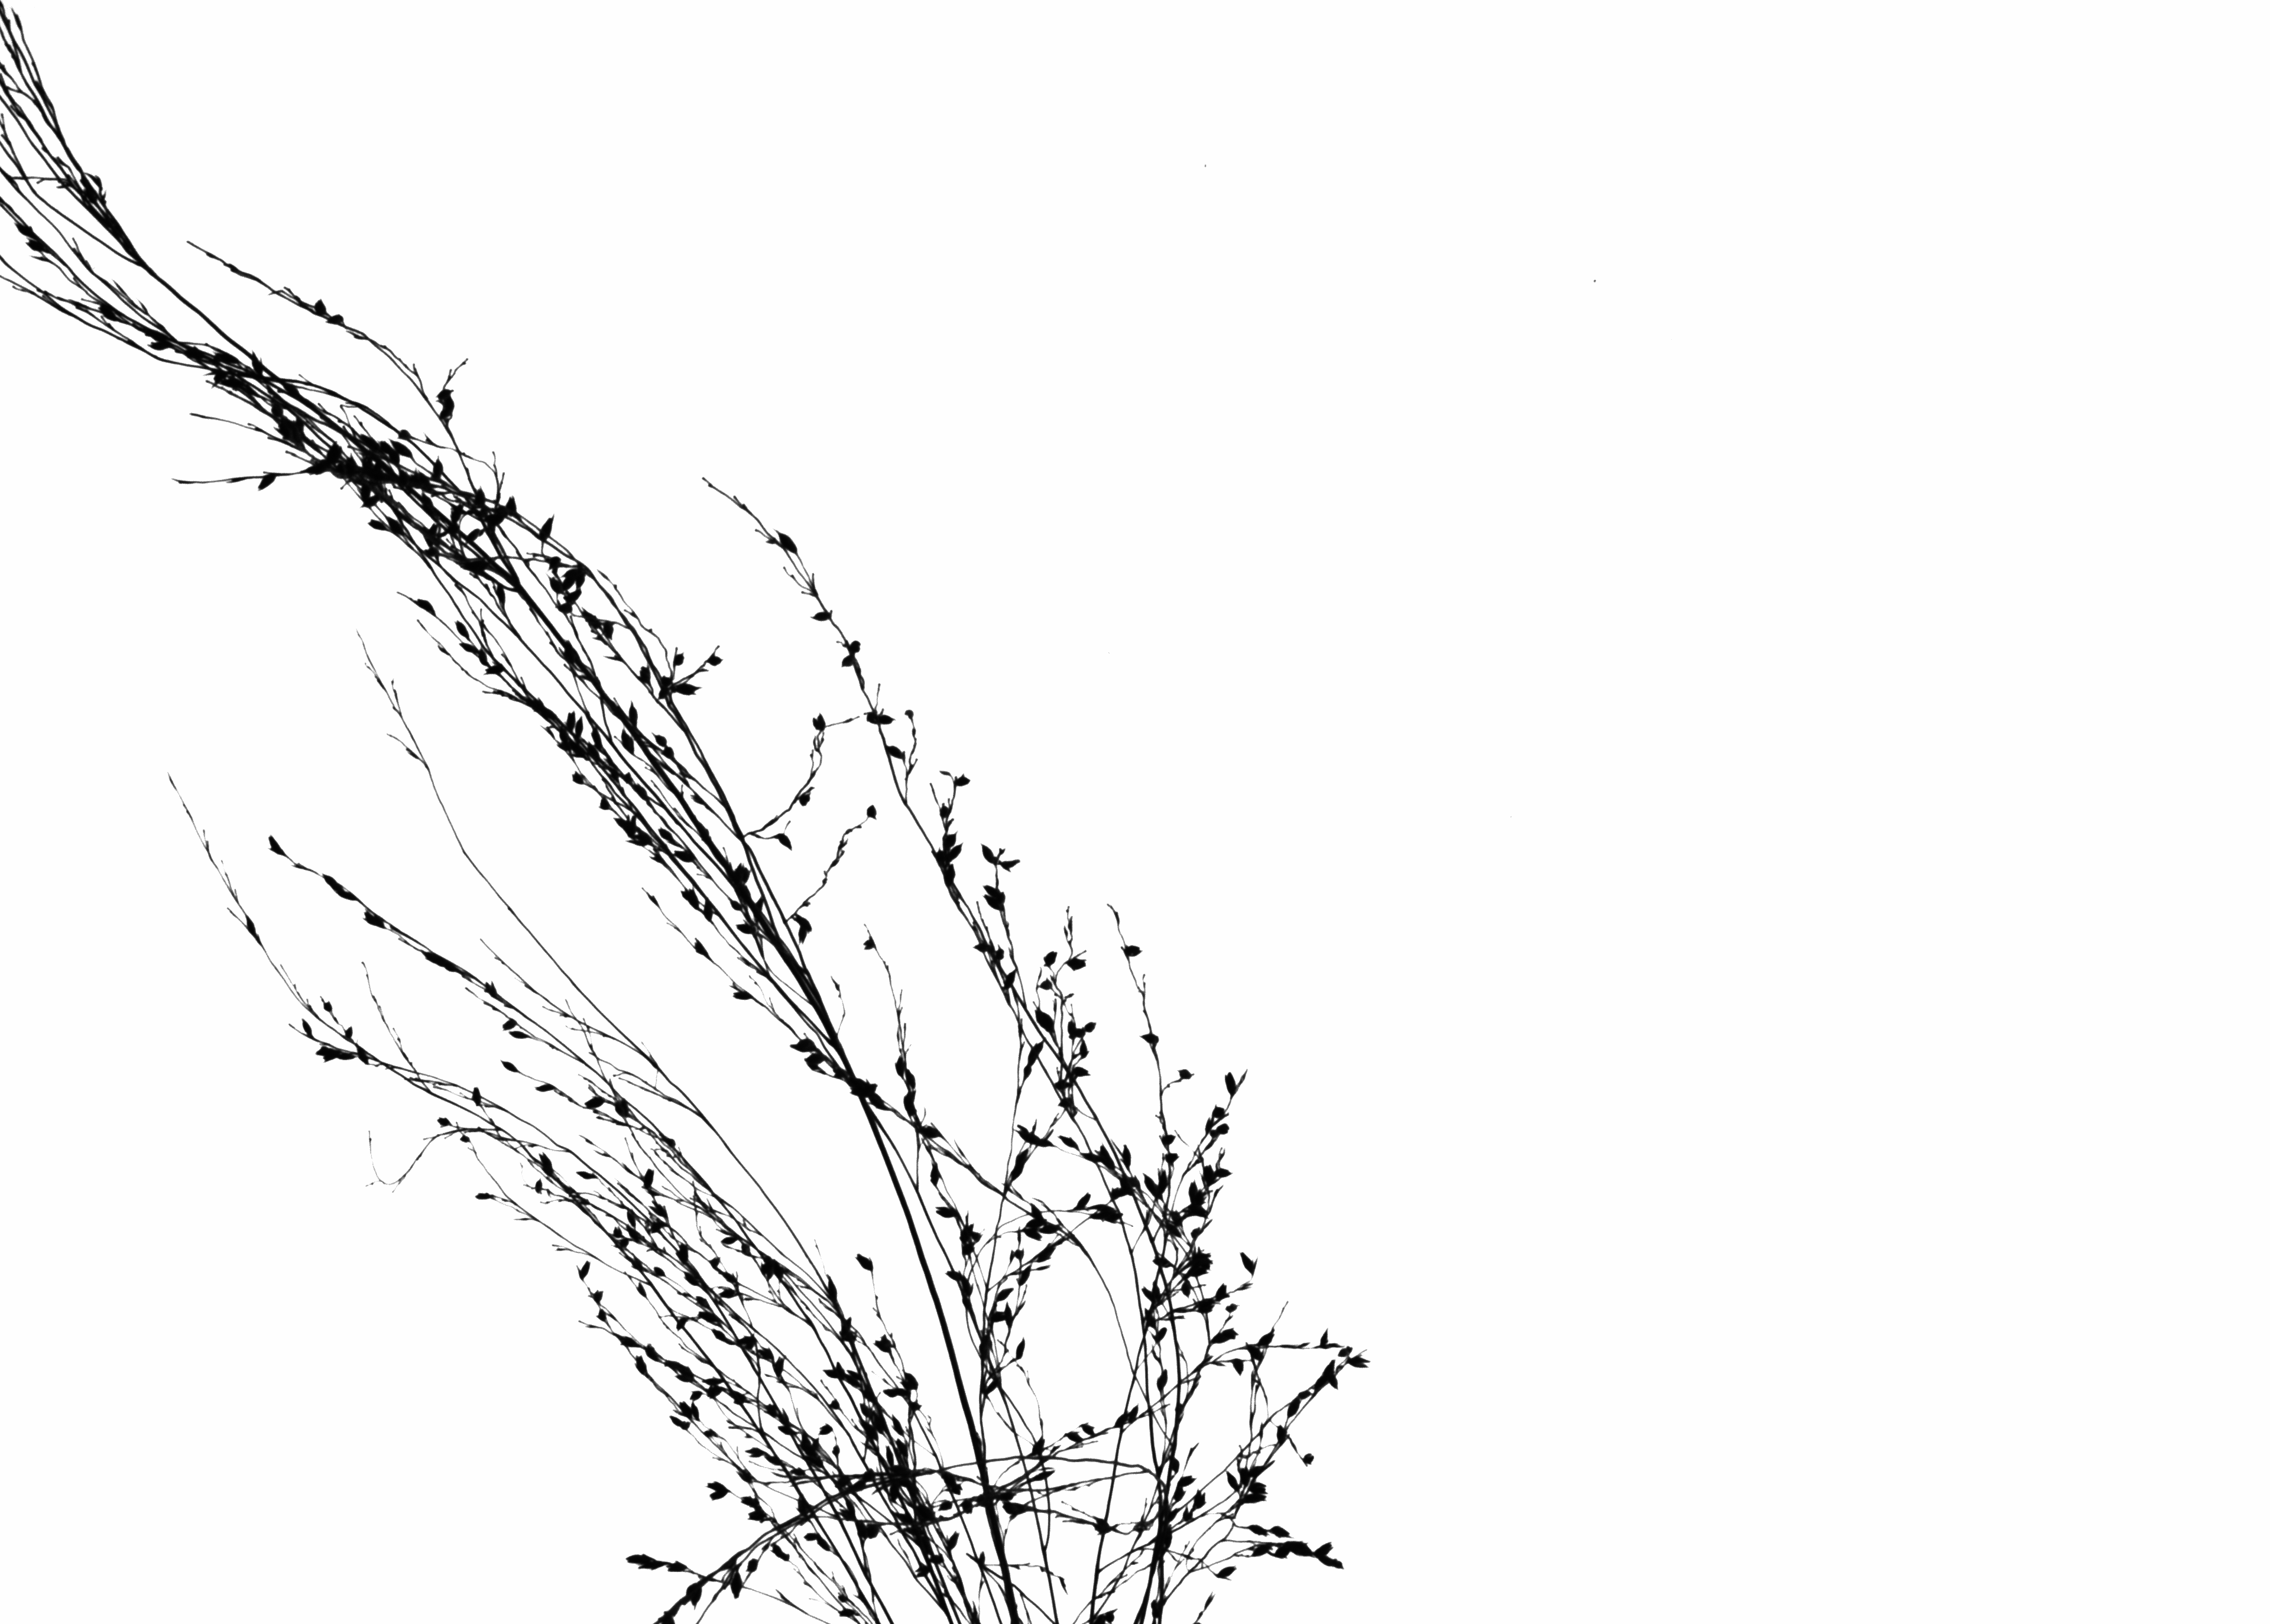seed: (1236, 1239, 1264, 1276), (860, 1401, 884, 1434), (357, 431, 385, 457), (774, 527, 800, 555), (726, 1568, 747, 1599), (1143, 1171, 1164, 1202), (485, 504, 510, 531), (266, 831, 288, 859), (561, 561, 582, 591), (865, 1079, 886, 1109), (538, 513, 557, 545), (390, 436, 415, 460), (793, 910, 819, 933), (360, 909, 387, 932), (851, 1250, 877, 1272), (396, 466, 417, 494), (823, 1271, 840, 1304), (849, 1081, 879, 1100), (580, 608, 603, 633), (675, 884, 700, 907), (1036, 1239, 1059, 1264), (900, 1366, 921, 1392), (471, 483, 491, 511), (619, 728, 638, 756), (1004, 1499, 1032, 1519), (1211, 1325, 1240, 1345), (1287, 1540, 1315, 1559), (786, 1039, 819, 1055), (301, 462, 331, 480), (696, 1309, 726, 1327), (257, 473, 281, 494), (1027, 1200, 1048, 1225), (1034, 1007, 1055, 1032), (735, 921, 761, 940), (12, 220, 39, 239), (346, 452, 364, 480), (25, 241, 53, 258), (624, 700, 642, 728), (673, 680, 702, 698), (916, 1125, 944, 1142), (1030, 1468, 1059, 1485), (1321, 1554, 1349, 1571), (545, 573, 566, 596), (452, 617, 473, 640), (772, 1541, 793, 1564), (417, 596, 438, 619), (983, 893, 1006, 914), (614, 817, 638, 837), (1245, 1341, 1264, 1366), (985, 882, 1009, 902), (587, 738, 603, 768), (250, 346, 266, 376), (688, 1580, 703, 1610), (297, 1014, 315, 1040), (665, 1557, 691, 1575), (1015, 1336, 1032, 1362), (1016, 1262, 1034, 1288), (1002, 967, 1020, 993), (492, 580, 508, 608), (327, 436, 343, 464), (281, 378, 302, 399), (649, 728, 670, 749), (1029, 1436, 1050, 1457), (1222, 1069, 1238, 1097), (462, 526, 485, 545), (775, 830, 795, 852), (353, 1044, 373, 1067), (617, 1332, 640, 1352), (884, 742, 907, 761), (1066, 953, 1088, 972), (735, 859, 753, 884), (440, 395, 457, 420), (637, 663, 654, 687), (798, 786, 816, 810), (642, 1341, 659, 1366), (932, 1204, 957, 1222), (1057, 1134, 1081, 1151), (1099, 1144, 1117, 1169), (1257, 1329, 1282, 1346), (431, 455, 447, 482), (802, 1051, 828, 1067), (772, 1353, 788, 1380), (1029, 1039, 1044, 1065), (322, 872, 341, 893), (944, 842, 964, 863), (1315, 1540, 1336, 1559), (269, 399, 287, 422), (563, 587, 586, 605), (673, 847, 696, 865), (900, 1093, 918, 1116), (1222, 1471, 1240, 1494), (538, 1151, 556, 1174), (958, 1222, 976, 1244), (1349, 1353, 1371, 1371), (506, 492, 520, 520), (573, 562, 587, 591), (359, 494, 383, 510), (424, 520, 440, 545), (730, 988, 754, 1004), (904, 1067, 920, 1091), (893, 1512, 918, 1527), (582, 1093, 607, 1109), (677, 1239, 693, 1264), (1020, 1225, 1044, 1241), (1094, 1200, 1118, 1216), (1285, 1396, 1301, 1420), (860, 1420, 879, 1439), (146, 339, 172, 353), (433, 387, 459, 401), (459, 642, 480, 659), (890, 1413, 907, 1434), (577, 1260, 594, 1281), (1064, 1429, 1085, 1446), (1248, 1543, 1275, 1557), (1004, 1299, 1016, 1329), (418, 489, 434, 511), (728, 1388, 751, 1404), (243, 910, 258, 933), (498, 1058, 520, 1074), (795, 1492, 811, 1515), (944, 1267, 967, 1283), (1018, 1123, 1034, 1146), (97, 306, 121, 320), (452, 499, 466, 524), (601, 619, 615, 643), (626, 837, 651, 851), (313, 1044, 338, 1058), (897, 1438, 911, 1462), (573, 1169, 601, 1181), (716, 1287, 740, 1301), (665, 1357, 689, 1371), (928, 1162, 942, 1186), (1319, 1323, 1331, 1352), (860, 935, 879, 953), (485, 661, 505, 678), (658, 824, 675, 844), (737, 1332, 756, 1350), (705, 1381, 724, 1399), (995, 1287, 1015, 1304), (1074, 1192, 1092, 1211), (1275, 1540, 1292, 1559), (705, 652, 726, 668), (1189, 1204, 1210, 1220), (647, 1202, 668, 1218), (642, 1167, 658, 1188), (735, 1469, 756, 1485), (594, 1306, 610, 1327), (668, 1415, 689, 1431), (988, 1308, 1009, 1323), (1139, 1030, 1160, 1046), (1271, 1522, 1292, 1538), (702, 896, 714, 923), (840, 1315, 853, 1341), (717, 1232, 744, 1244), (1120, 1142, 1132, 1169), (325, 313, 348, 327), (800, 1432, 814, 1455), (366, 518, 389, 533), (615, 1098, 629, 1121), (775, 1422, 798, 1436), (688, 1399, 702, 1422), (633, 1353, 647, 1376), (709, 1489, 731, 1503), (948, 1529, 962, 1552), (981, 842, 995, 865), (1120, 944, 1143, 958), (726, 896, 744, 914), (570, 770, 587, 787), (485, 979, 501, 998), (710, 1327, 730, 1343), (679, 1401, 695, 1420), (863, 1524, 883, 1540), (872, 1338, 891, 1353), (914, 1562, 934, 1578), (927, 1550, 946, 1566), (960, 1496, 976, 1515), (1166, 1220, 1182, 1239), (1113, 1410, 1129, 1429), (1248, 1520, 1268, 1536), (471, 1084, 484, 1109), (746, 1510, 770, 1522), (809, 610, 833, 622), (313, 297, 327, 318), (673, 1369, 695, 1383), (883, 1383, 904, 1397), (1034, 1137, 1055, 1151), (1080, 1149, 1101, 1164), (1016, 1146, 1030, 1167), (1217, 1564, 1238, 1578), (1143, 1308, 1157, 1329), (893, 1055, 906, 1077), (883, 1445, 895, 1468), (1243, 1494, 1266, 1506), (1248, 1464, 1271, 1476), (533, 1081, 556, 1093), (705, 1374, 728, 1387), (976, 1548, 988, 1571), (814, 710, 826, 733), (971, 940, 993, 953), (1078, 1037, 1090, 1060), (1132, 1174, 1145, 1197), (1157, 1367, 1169, 1390), (1324, 1359, 1336, 1381), (396, 427, 413, 443), (422, 545, 440, 561), (573, 714, 584, 740), (614, 1236, 631, 1251), (811, 1436, 821, 1462), (746, 1445, 763, 1461), (1081, 1422, 1099, 1438), (839, 654, 856, 670), (1043, 949, 1059, 967), (1176, 1067, 1194, 1083), (1189, 1223, 1204, 1241), (1132, 1517, 1148, 1534), (1139, 1287, 1157, 1302), (865, 801, 879, 821), (839, 1508, 858, 1522), (345, 1021, 359, 1040), (760, 1260, 774, 1280), (754, 1346, 774, 1360), (879, 1330, 893, 1350), (1090, 1522, 1110, 1536), (798, 917, 807, 947), (566, 708, 577, 733), (1187, 1267, 1208, 1280), (501, 1018, 522, 1030), (637, 1280, 649, 1301), (677, 1313, 689, 1334), (740, 1494, 761, 1506), (823, 1367, 844, 1380), (876, 712, 897, 724), (946, 828, 958, 849), (1204, 1164, 1217, 1185), (663, 747, 679, 763), (684, 1272, 700, 1288), (816, 1420, 832, 1436), (937, 1497, 953, 1513), (955, 773, 971, 789), (1037, 977, 1053, 993), (557, 601, 575, 615), (596, 794, 610, 812), (672, 650, 686, 668), (631, 1255, 645, 1272), (779, 1408, 793, 1425), (322, 998, 336, 1016), (624, 1207, 638, 1225), (652, 1264, 666, 1281), (746, 1554, 760, 1571), (848, 640, 865, 654), (1095, 1513, 1110, 1531), (1231, 1357, 1245, 1374), (837, 1608, 860, 1619), (1067, 1018, 1078, 1040), (844, 1367, 863, 1380), (475, 1190, 494, 1202), (946, 1482, 965, 1494), (1002, 858, 1022, 870), (1215, 1102, 1227, 1121), (1129, 1403, 1141, 1422), (1178, 1475, 1197, 1487), (1155, 1325, 1168, 1345), (1217, 1281, 1229, 1301), (478, 642, 487, 668), (707, 1253, 721, 1269), (535, 1174, 545, 1195), (707, 1480, 728, 1490), (937, 801, 951, 817), (1160, 1132, 1176, 1146), (1217, 1123, 1231, 1139), (1275, 1424, 1285, 1445), (436, 1116, 454, 1128), (1248, 1482, 1266, 1494), (1196, 1244, 1204, 1269), (818, 1536, 830, 1554), (1217, 1167, 1234, 1179), (1189, 1179, 1197, 1204), (1173, 1485, 1185, 1503), (1328, 1371, 1340, 1388), (700, 1427, 719, 1438), (1023, 1062, 1034, 1081), (1203, 1118, 1213, 1137), (1173, 1207, 1183, 1227), (1171, 1454, 1182, 1473), (1197, 1490, 1208, 1510), (1182, 1280, 1192, 1299), (1336, 1345, 1356, 1355), (1190, 1253, 1213, 1262), (1159, 1167, 1168, 1190), (723, 1271, 738, 1283), (612, 1222, 624, 1237), (995, 944, 1008, 960), (1153, 1257, 1169, 1269), (789, 1468, 807, 1478), (1192, 1258, 1213, 1267), (835, 1360, 846, 1378), (830, 1394, 840, 1411), (948, 863, 957, 884), (1074, 1067, 1092, 1077), (1053, 1079, 1071, 1090), (1192, 1487, 1201, 1508), (689, 1388, 703, 1401), (1085, 1019, 1097, 1033), (1166, 1153, 1180, 1165), (1197, 1295, 1217, 1304), (1194, 1304, 1213, 1313), (1303, 1452, 1313, 1468), (1241, 1464, 1248, 1487), (594, 1287, 603, 1304), (804, 1531, 821, 1540), (459, 1132, 471, 1144), (904, 707, 916, 719), (1074, 1026, 1087, 1039), (1224, 1301, 1238, 1311), (1298, 1388, 1312, 1399), (937, 768, 953, 777), (1183, 1504, 1190, 1524), (837, 1594, 851, 1603), (1171, 1308, 1192, 1313), (833, 1445, 842, 1457)
